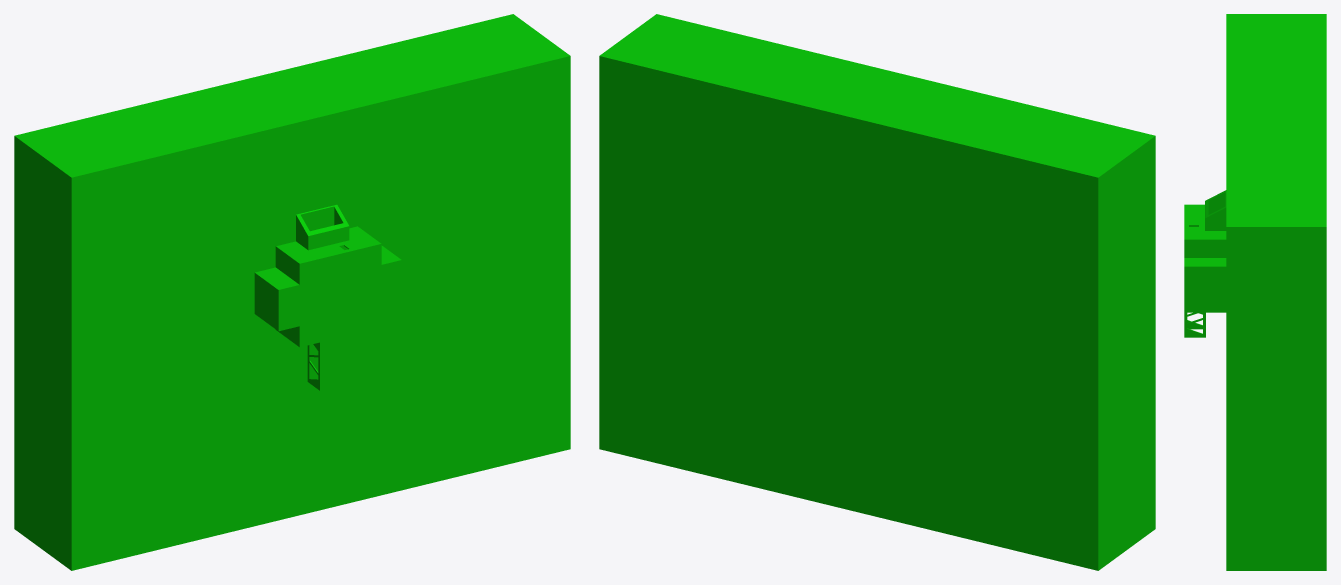
The model's file is debug_0001_col.obj.
The picture shows the model from 3 angles, left to right: view 1: azimuth 30°, elevation 25°; view 2: azimuth 150°, elevation 25°; view 3: azimuth 270°, elevation 25°; orthographic projection. The views are drawn at different scales.
Parts seen in each view (by area): view 1: COLLIDE.040_Cube.052; view 2: COLLIDE.040_Cube.052; view 3: COLLIDE.040_Cube.052.
Boxes of the visible parts, bbox=[...] form: COLLIDE.040_Cube.052: bbox=[14, 14, 570, 570]; COLLIDE.040_Cube.052: bbox=[599, 14, 1155, 570]; COLLIDE.040_Cube.052: bbox=[1184, 14, 1326, 570].
Bounding box in the file's own units: 2072 × 1560 × 584.
